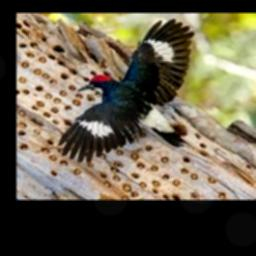Woodpecker: (58, 19, 194, 163)
